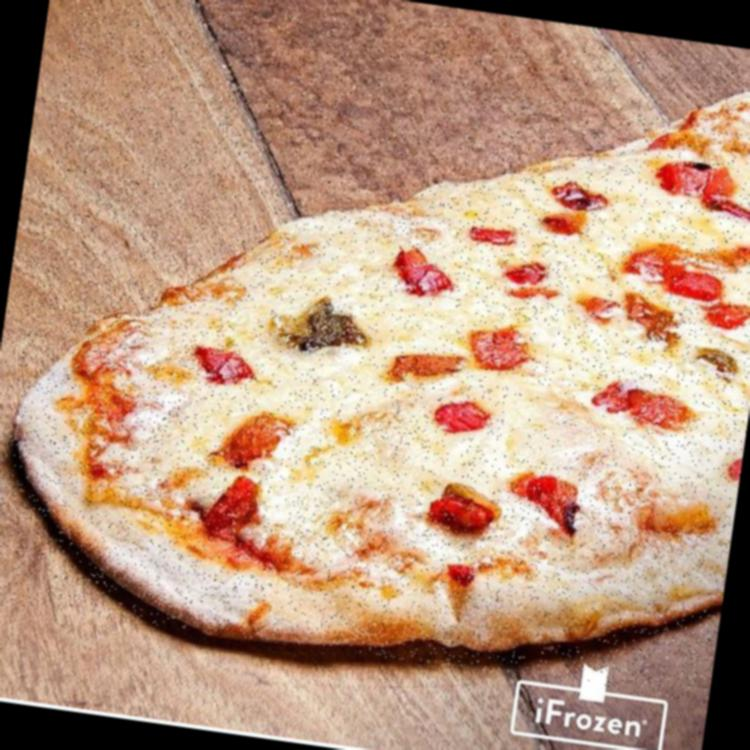Cheese: (234, 216, 494, 390), (487, 161, 750, 318), (277, 364, 424, 554), (598, 430, 744, 597), (534, 242, 630, 385), (498, 381, 607, 470)
Peppers: (628, 234, 726, 307), (659, 158, 750, 221), (382, 236, 465, 302), (602, 380, 696, 434), (168, 337, 258, 392), (592, 290, 679, 346), (420, 470, 486, 534), (205, 472, 262, 536), (219, 413, 286, 467), (466, 320, 536, 371), (386, 344, 462, 388), (465, 210, 520, 252), (502, 262, 552, 302), (438, 400, 490, 434), (706, 296, 750, 330)
Pizza: (0, 0, 750, 702)
